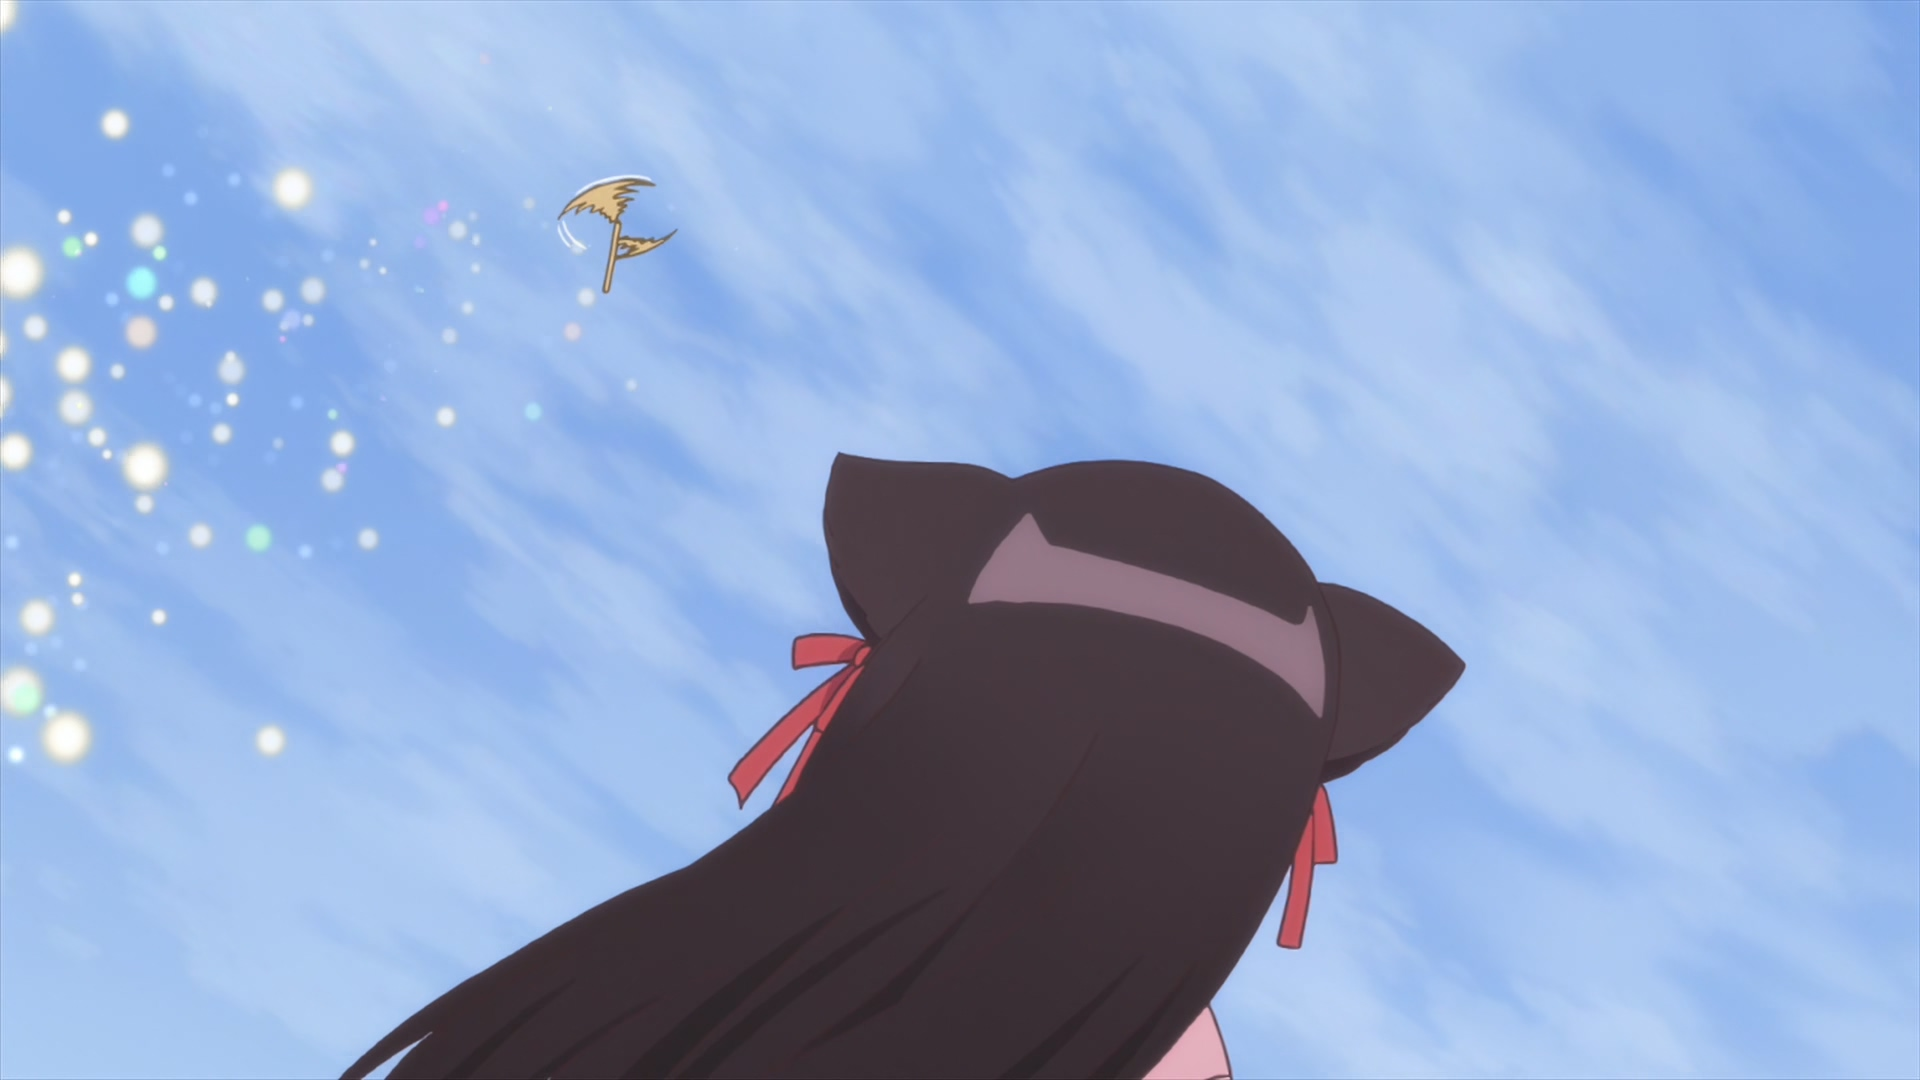樱: (335, 452, 1464, 1080)
